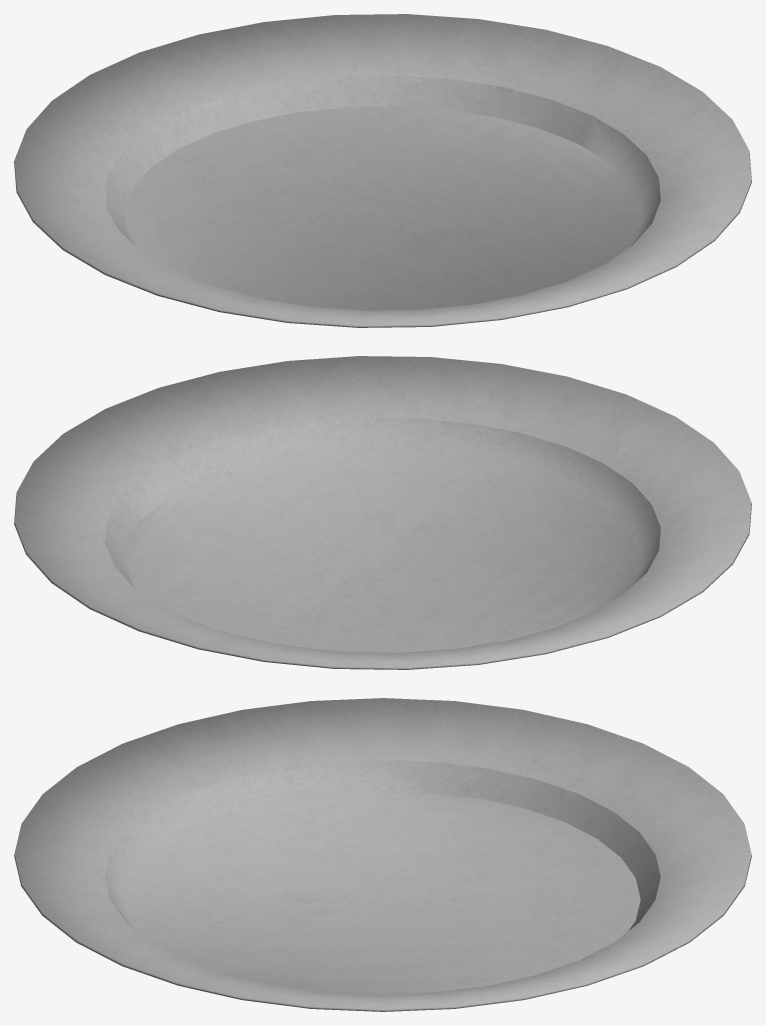
File: PlateUnity.fbx
The picture shows the model from 3 angles, top to bottom: view 1: azimuth 30°, elevation 25°; view 2: azimuth 150°, elevation 25°; view 3: azimuth 270°, elevation 25°; orthographic projection.
Visible parts, largest first — view 1: Окружность.010; view 2: Окружность.010; view 3: Окружность.010.
Part boxes in pixels (bbox=[...]): Окружность.010: bbox=[14, 14, 751, 327]; Окружность.010: bbox=[14, 356, 751, 669]; Окружность.010: bbox=[14, 698, 751, 1011].
Bounding box in the file's own units: 275 × 19.74 × 275.
